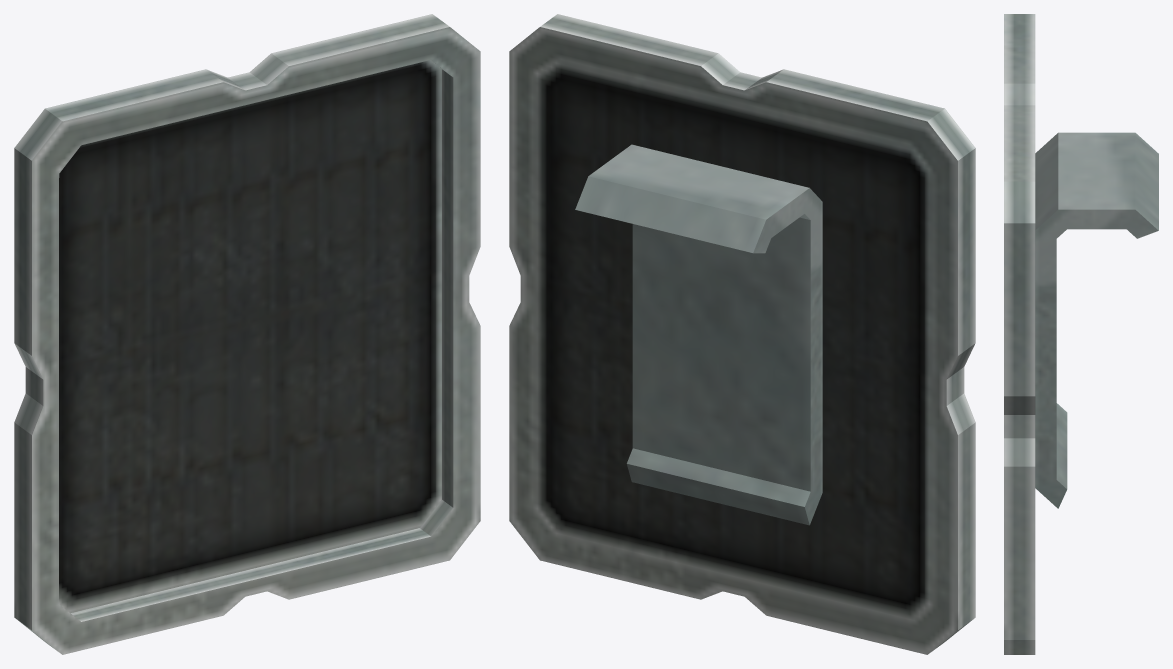
Rendered from BillboardSquare.FBX.
3 renders of one model, left to right at view 1: azimuth 30°, elevation 25°; view 2: azimuth 150°, elevation 25°; view 3: azimuth 270°, elevation 25°, orthographic. The views are drawn at different scales.
Parts seen in each view (by area): view 1: BillboardSquare; view 2: BillboardSquare; view 3: BillboardSquare.
Boxes of the visible parts, x1,y1,x2,y2 form: BillboardSquare: [14, 14, 480, 654]; BillboardSquare: [509, 14, 975, 654]; BillboardSquare: [1004, 14, 1158, 654].
Bounding box in the file's own units: 118 × 134 × 39.67.
